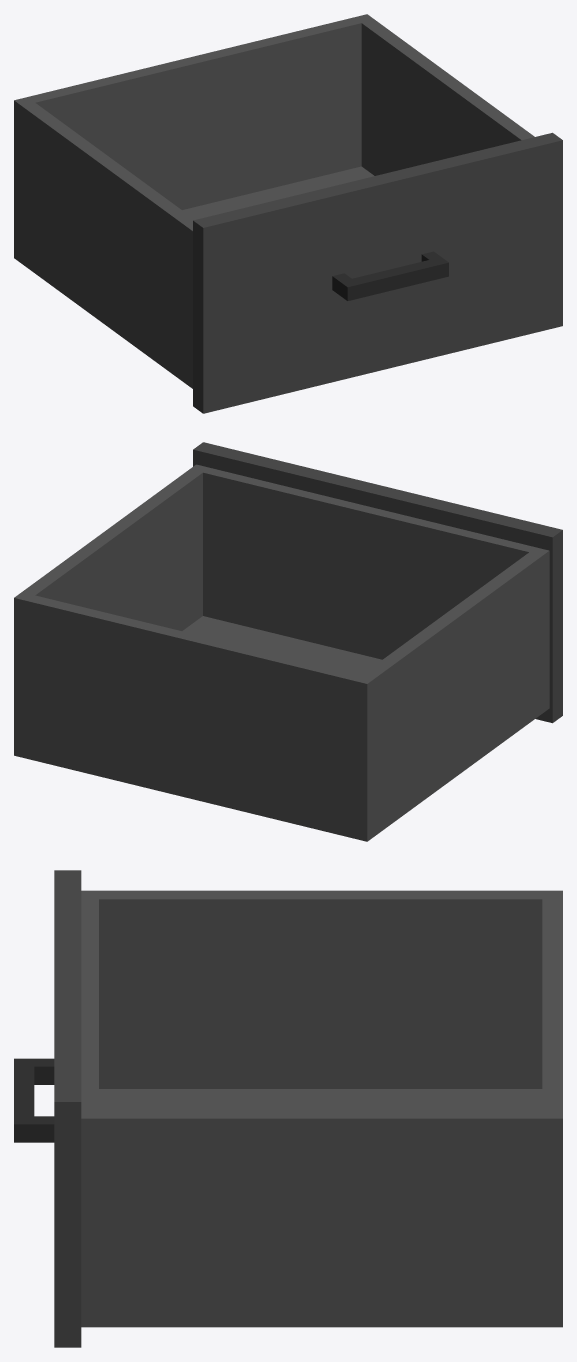
File: BedTable1_C2_02.fbx
3 views of the same model, one above another, from view 1: azimuth 30°, elevation 25°; view 2: azimuth 150°, elevation 25°; view 3: azimuth 270°, elevation 25° (orthographic). The views are drawn at different scales.
Visible parts, largest first — view 1: BedTable1_C2_02; view 2: BedTable1_C2_02; view 3: BedTable1_C2_02.
Part boxes in pixels (bbox=[...]): BedTable1_C2_02: bbox=[14, 14, 562, 413]; BedTable1_C2_02: bbox=[14, 442, 562, 841]; BedTable1_C2_02: bbox=[14, 870, 562, 1347].
Size of the model in its own units: 40.5 by 20 by 40.51.
